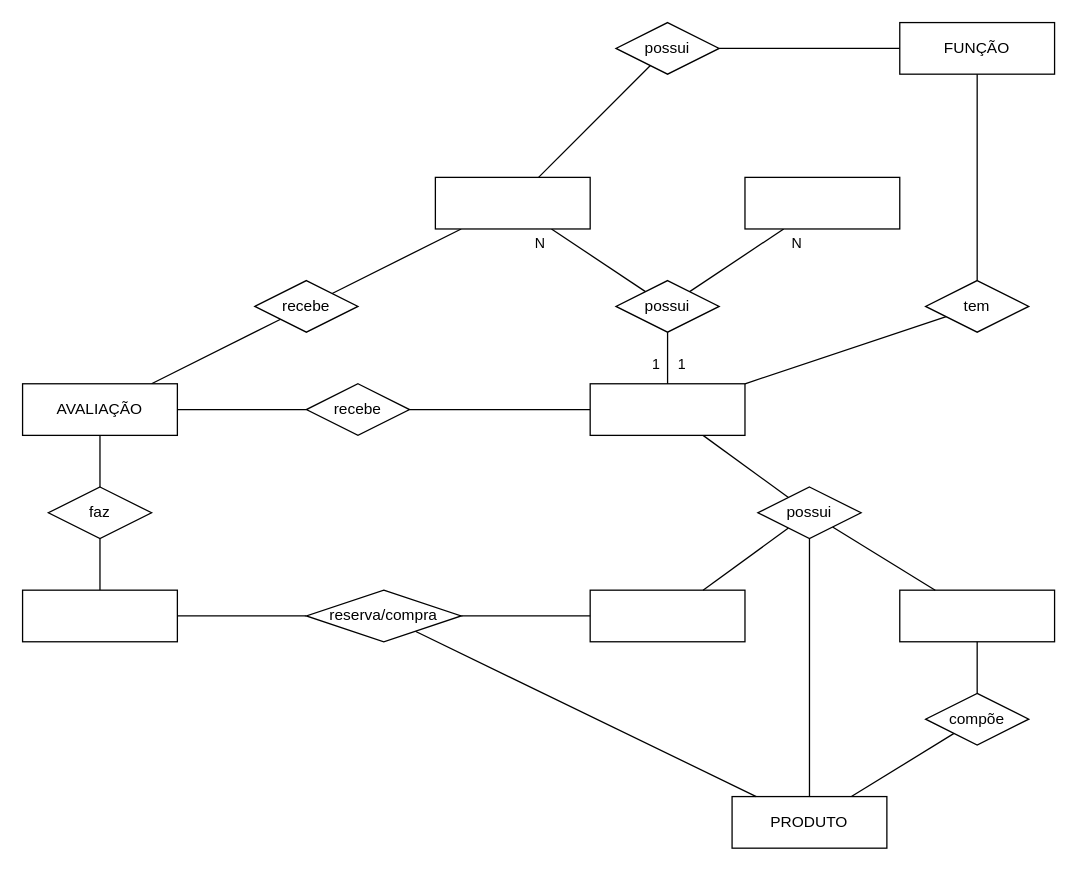
Some shapes in this 1077 by 871 pixel diagram are drawn without their labels. The centre of each missing label's shape, as x and y in pixels:
"DONO" belongs at point 822,202.
"ESTABELECIMENTO" belongs at point 667,408.
"FUNCIONARIO" belongs at point 512,202.
"INSUMO" belongs at point 976,615.
"PESSOA" belongs at point 99,615.
"SERVICO" belongs at point 667,615.
